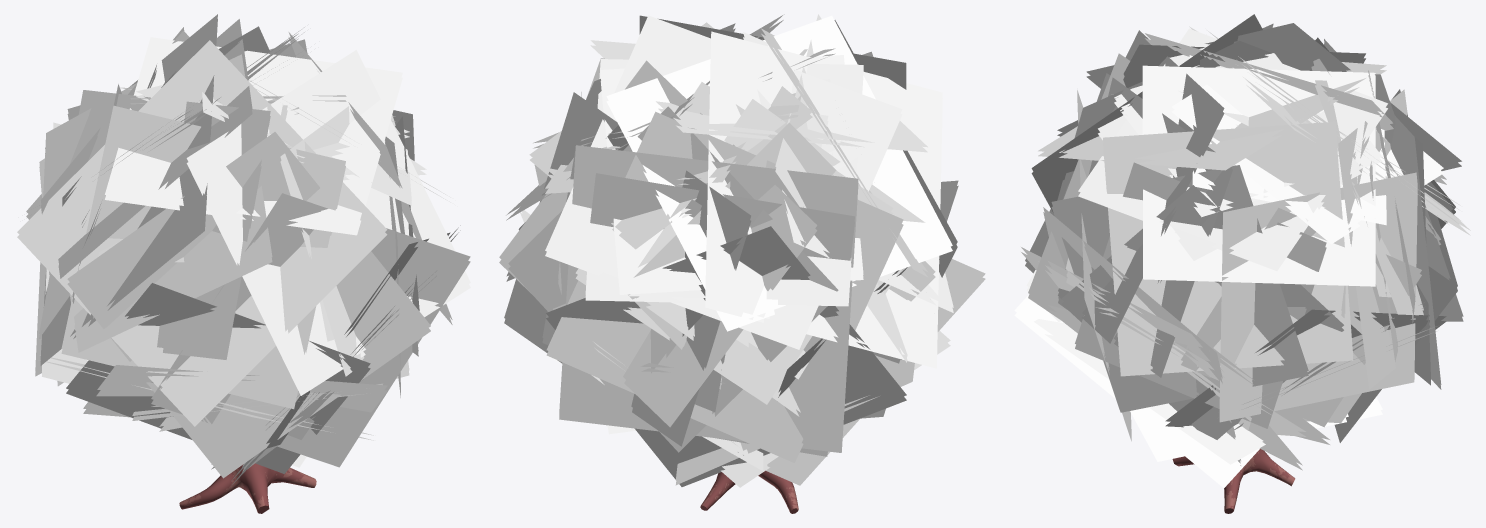
File: Bottlebrush.fbx
3 views of the same model, side by side, from view 1: azimuth 30°, elevation 25°; view 2: azimuth 150°, elevation 25°; view 3: azimuth 270°, elevation 25° (orthographic). The views are drawn at different scales.
Parts seen in each view (by area): view 1: BottleBrushFlowers, BottleBrushLeaves, Trunk; view 2: BottleBrushFlowers, BottleBrushLeaves, Trunk; view 3: BottleBrushFlowers, BottleBrushLeaves, Trunk.
Boxes of the visible parts, left/top/right/bottom form: BottleBrushFlowers: left=17, top=14, right=470, bottom=480; BottleBrushLeaves: left=17, top=19, right=470, bottom=485; Trunk: left=179, top=463, right=316, bottom=513; BottleBrushFlowers: left=499, top=14, right=985, bottom=482; BottleBrushLeaves: left=499, top=20, right=985, bottom=487; Trunk: left=700, top=470, right=798, bottom=513; BottleBrushFlowers: left=1014, top=14, right=1470, bottom=482; BottleBrushLeaves: left=1014, top=19, right=1470, bottom=487; Trunk: left=1172, top=449, right=1295, bottom=513.
Size of the model in its own units: 655 by 743 by 668.
3 materials, 1 textured.
